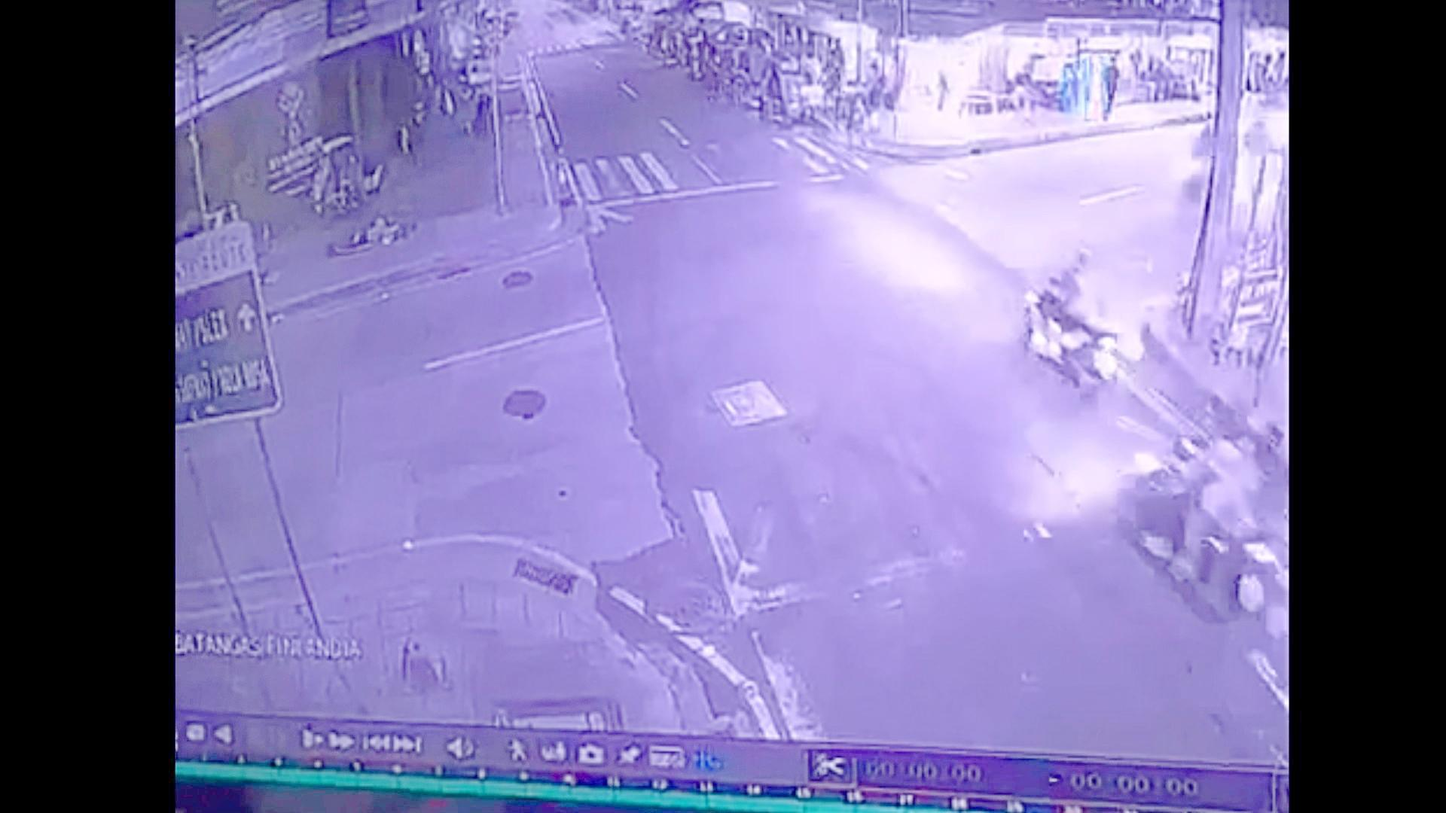Motor: (1124, 402, 1278, 617), (1027, 245, 1126, 396)
Not Accident: (1026, 242, 1279, 616)
